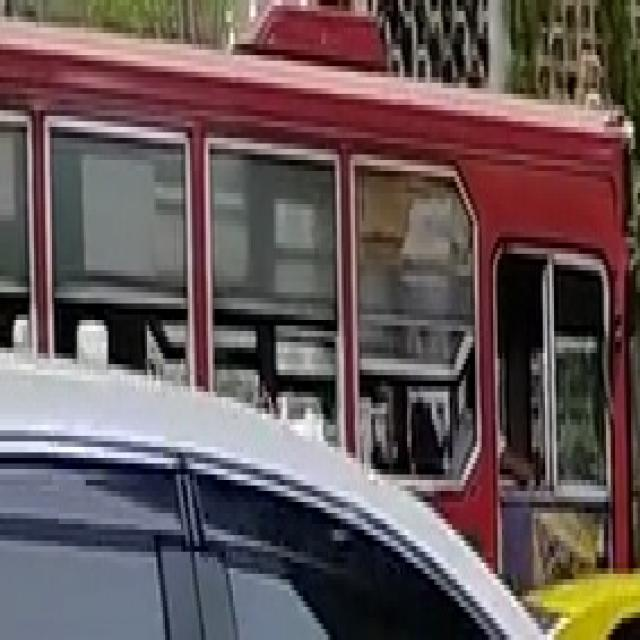door: (0, 5, 633, 596), (493, 237, 613, 585)
